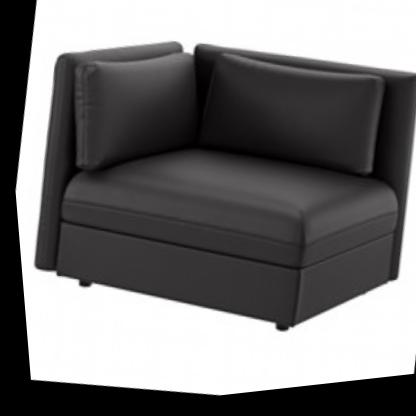Sofa: (1, 0, 416, 391)
